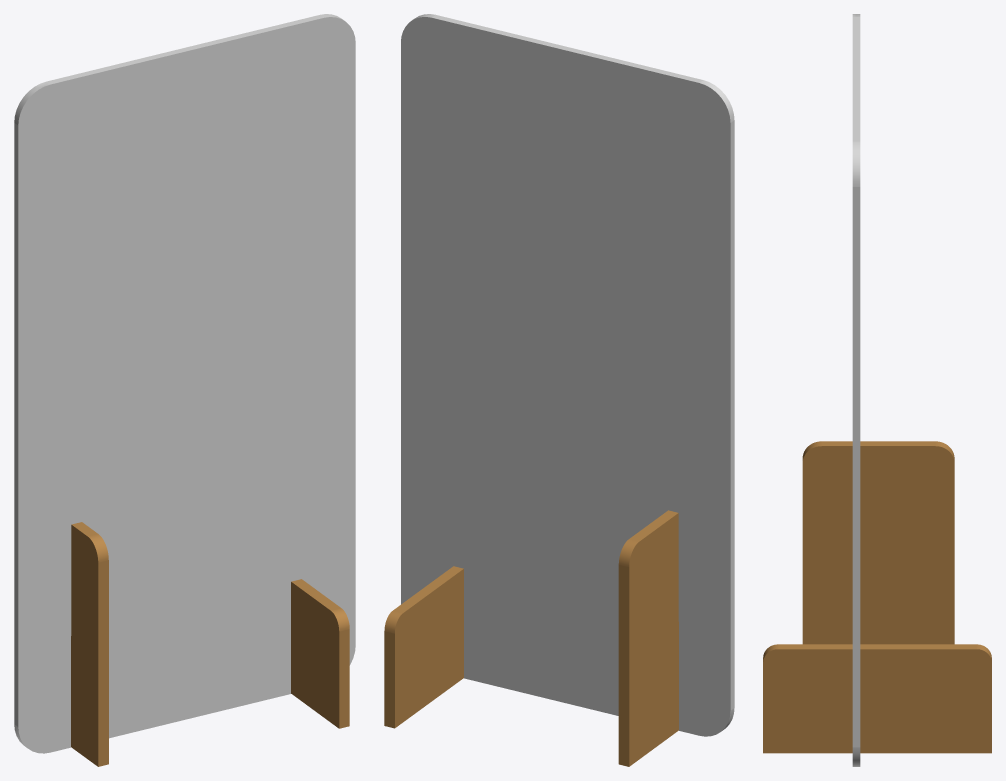
The picture shows the model from 3 angles, left to right: view 1: azimuth 30°, elevation 25°; view 2: azimuth 150°, elevation 25°; view 3: azimuth 270°, elevation 25°; orthographic projection. The views are drawn at different scales.
Parts seen in each view (by area): view 1: Object.015; view 2: Object.015; view 3: Object.015.
Part boxes in pixels (left/top/right/bottom): Object.015: left=14, top=14, right=355, bottom=766; Object.015: left=384, top=14, right=734, bottom=766; Object.015: left=763, top=14, right=991, bottom=766.
Bounding box in the file's own units: 0.9537 × 1.8 × 0.6014.
